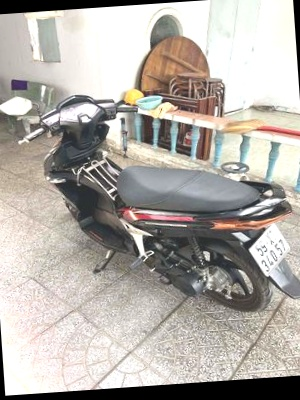Bien-so: (229, 251, 271, 310)
